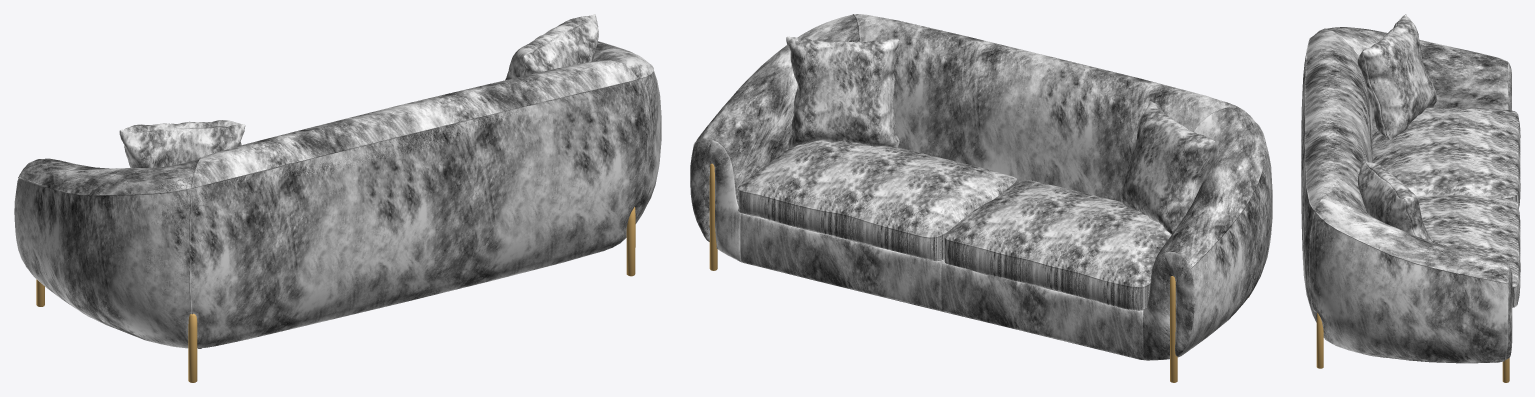
File: furniture_1.glb
3 views of the same model, side by side, from view 1: azimuth 30°, elevation 25°; view 2: azimuth 150°, elevation 25°; view 3: azimuth 270°, elevation 25° (orthographic). The views are drawn at different scales.
Parts seen in each view (by area): view 1: GF_Sofa.001; view 2: GF_Sofa.001; view 3: GF_Sofa.001.
Part boxes in pixels (left/top/right/bottom): GF_Sofa.001: left=14, top=14, right=661, bottom=382; GF_Sofa.001: left=690, top=14, right=1272, bottom=382; GF_Sofa.001: left=1301, top=14, right=1520, bottom=382.
Bounding box in the file's own units: 2.27 × 0.8369 × 0.9434.
4 materials, 3 textured.
